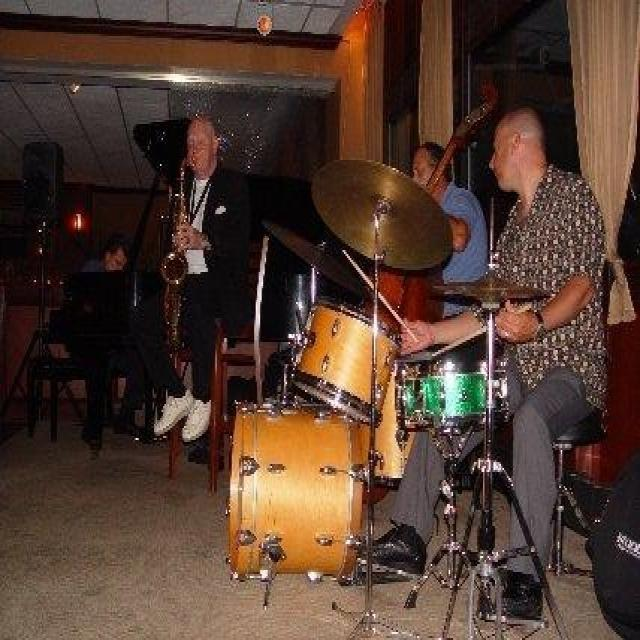drums: (227, 158, 554, 640)
saxophone: (161, 159, 190, 358)
